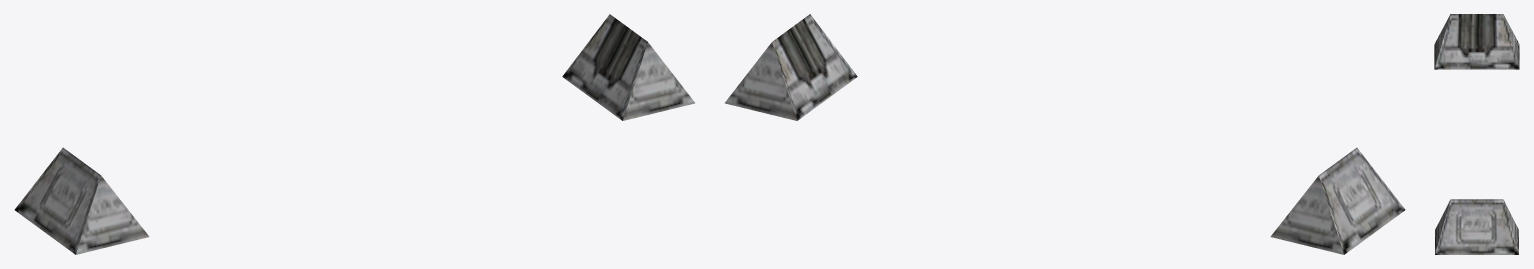
Rendered from lambda_pads_l3.fbx.
The picture shows the model from 3 angles, left to right: view 1: azimuth 30°, elevation 25°; view 2: azimuth 150°, elevation 25°; view 3: azimuth 270°, elevation 25°; orthographic projection. The views are drawn at different scales.
Visible parts, largest first — view 1: mesh_node; view 2: mesh_node; view 3: mesh_node.
Boxes of the visible parts, bbox=[...] form: mesh_node: bbox=[14, 14, 694, 254]; mesh_node: bbox=[725, 14, 1405, 254]; mesh_node: bbox=[1434, 14, 1519, 254].
Size of the model in its own units: 12.47 by 1.19 by 2.14.
